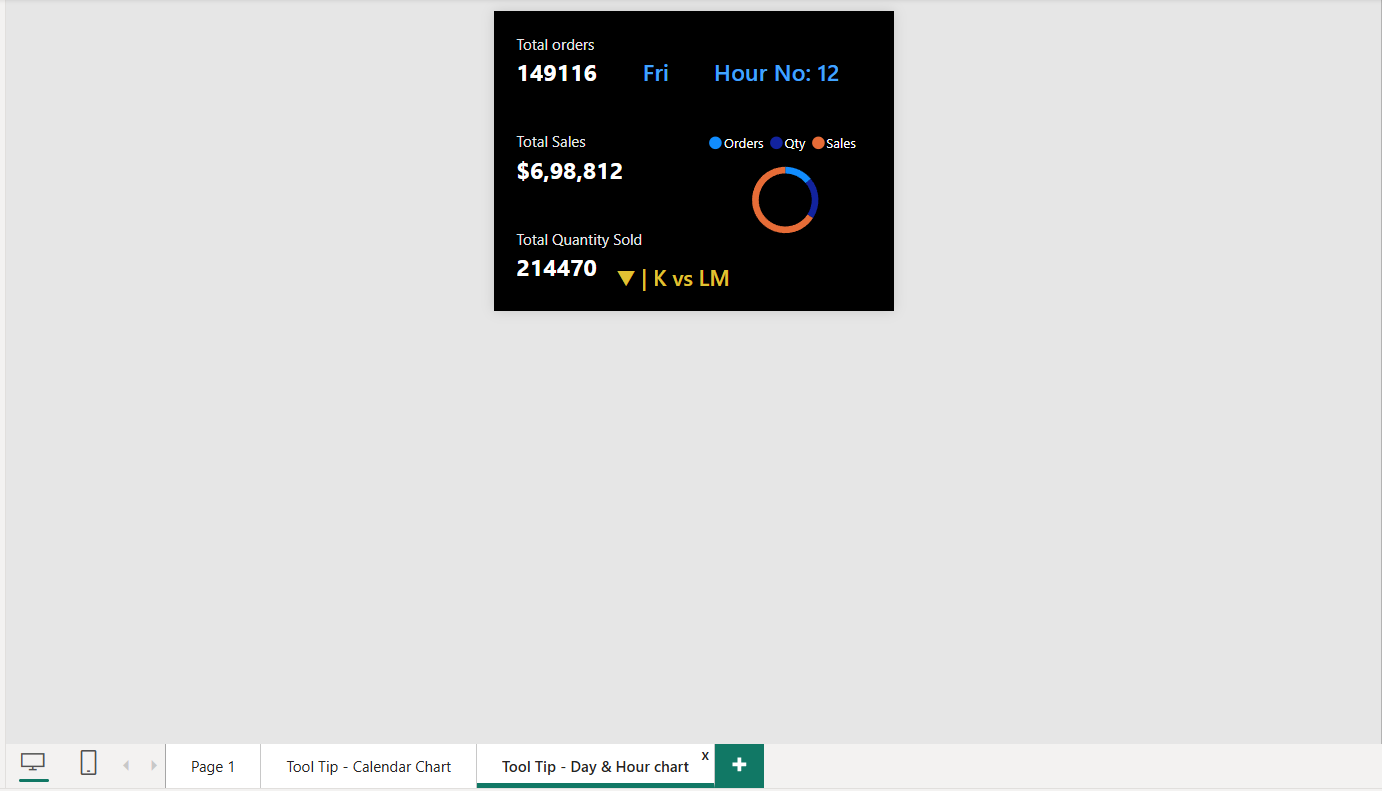

The page's visual inventory and layout, read from the dashboard file:
{"tool":"powerbi","page":{"name":"Tool Tip - Day & Hour chart","canvas":[320,240],"ordinal":2},"visuals":[{"type":"cardVisual","fields":{"Data":["Transactions.Total orders","Transactions.Total Sales","Transactions.Total Quantity Sold"]},"box":[0,0,146,240],"z":0},{"type":"donutChart","fields":{"Y":["Transactions.Total orders","Transactions.Total Quantity Sold","Transactions.Total Sales"]},"box":[146,78,174,123],"z":1000},{"type":"cardVisual","fields":{"Data":["Date_Table.TT For Hour"]},"box":[160,34,133,29],"z":2000},{"type":"cardVisual","fields":{"Data":["Transactions.MoM Growth & Diff Sales"]},"box":[82,201,231,25],"z":3000},{"type":"cardVisual","fields":{"Data":["Min(Date_Table.Date Name)"]},"box":[103,34,85,29],"z":4000}]}

Visuals, with their boxes on the page's 320x240 design canvas (x1, y1, x2, y2). These are canvas units, not pixel positions in the 1382x791 screenshot, which may show the page scaled, cropped or inside an application window:
cardVisual - Transactions.Total orders x Transactions.Total Sales: region(0, 0, 146, 240)
donutChart - Transactions.Total orders x Transactions.Total Quantity Sold: region(146, 78, 320, 201)
cardVisual - Date_Table.TT For Hour: region(160, 34, 293, 63)
cardVisual - Transactions.MoM Growth & Diff Sales: region(82, 201, 313, 226)
cardVisual - Min(Date_Table.Date Name): region(103, 34, 188, 63)
